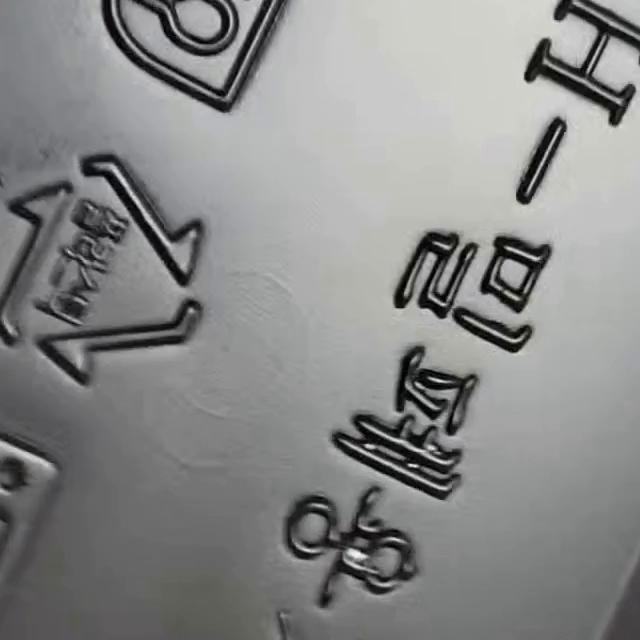Plastic: (0, 152, 204, 386)
